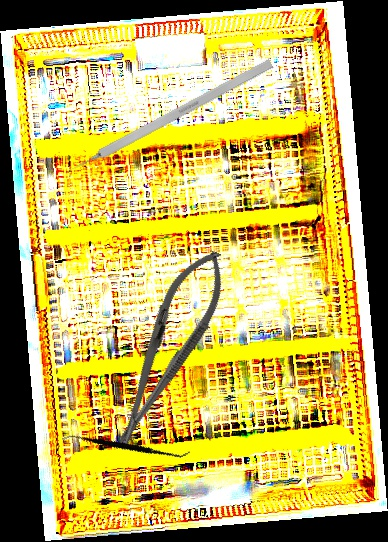Hook Surgical: (60, 58, 274, 179)
Needle Holder: (96, 240, 240, 458)
Spatula Surgical: (60, 393, 192, 498)
